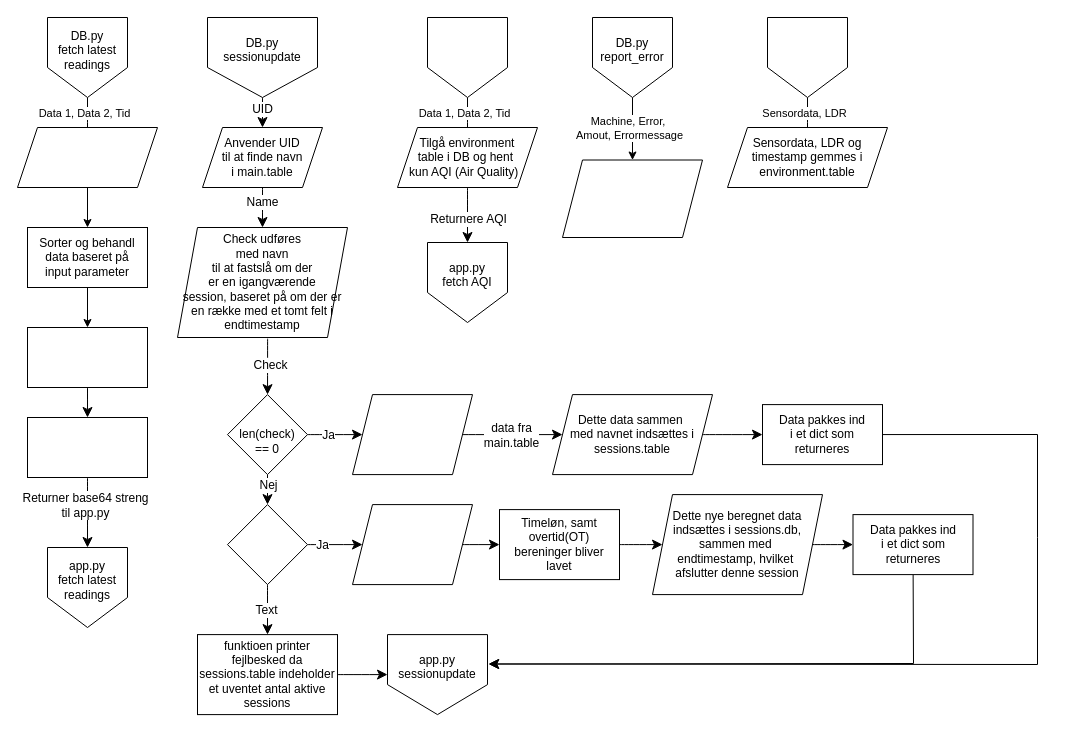
Some shapes in this 1065 by 733 pixel diagram are drawn without their labels. Each missing label, with the centre of its shape:
DB.py create new reading: the point at 807,57
DB.py fetch AQI: the point at 467,57
Fejlnen, samt dens info gemmes i errors.table: the point at 632,198
Generer grafer vha matplotlib i graphs.py: the point at 87,357
Henter info fra main.table omkring den ansatte: the point at 412,434
Henter info fra sessions.table omkring den igangværende session: the point at 412,544
Konverter grafer til base64 format: the point at 87,447
len(check) == 1: the point at 267,544
Tilgå environment table i DB: the point at 87,157
